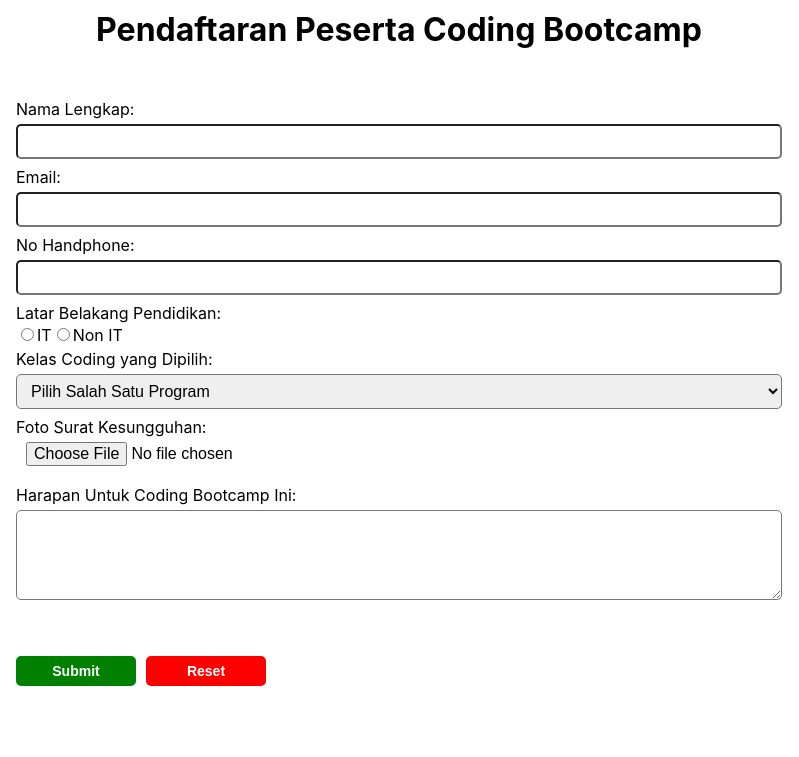
Form Coding › Input warning message
Type "Bobby4" into the field labelled "Nama Lengkap:" at coordinates (399, 142), box [16,124,782,159]
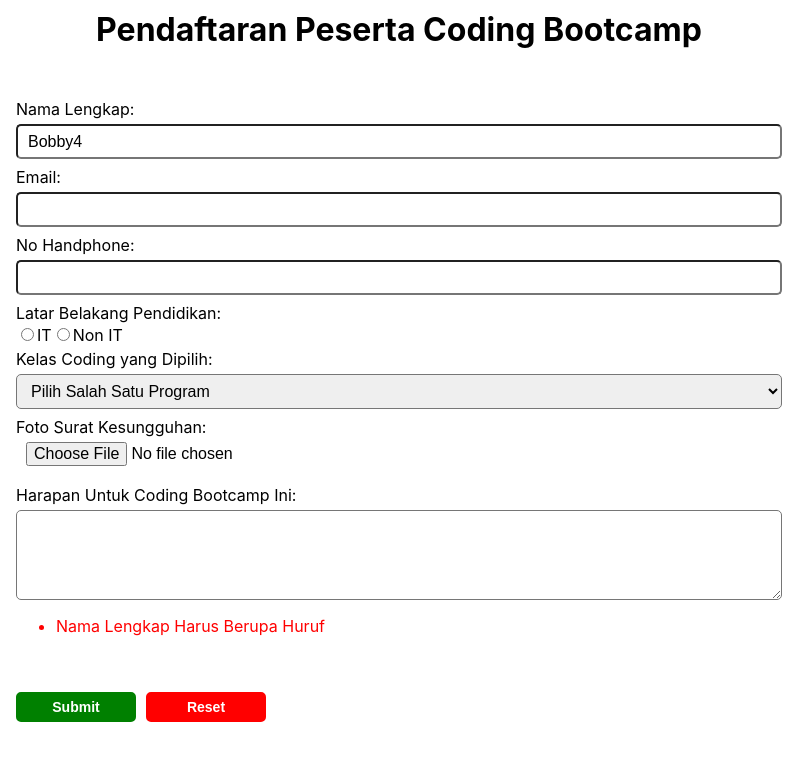
Type "mailgmailcom" into the field labelled "Email:" at coordinates (399, 210), box [16,192,782,227]
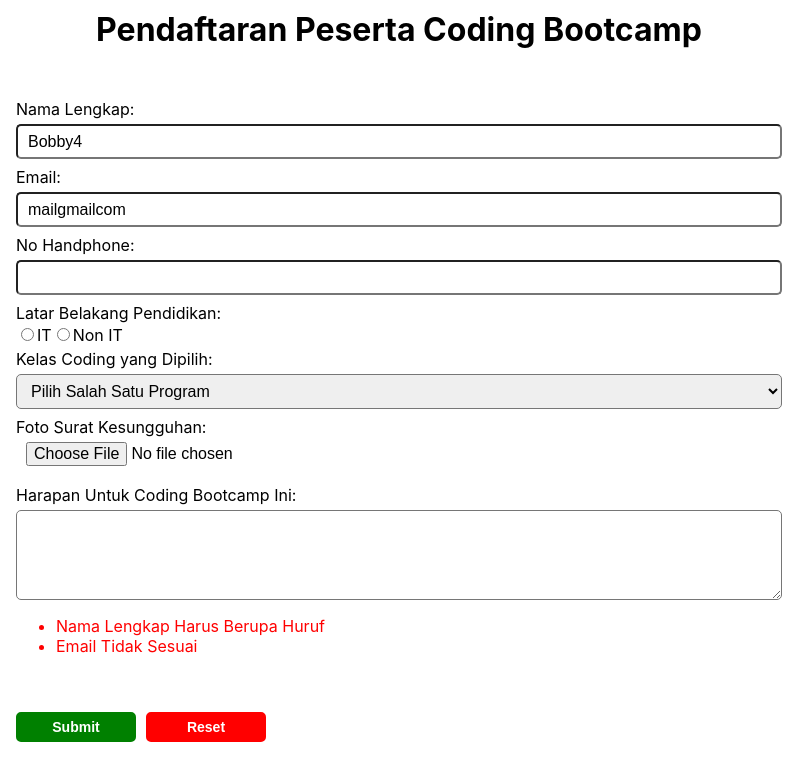
Expected: the list item "Nama Lengkap Harus Berupa Huruf" is shown, [56,616,325,636]
Expected: the list item "Email Tidak Sesuai" is shown, [56,636,198,656]
